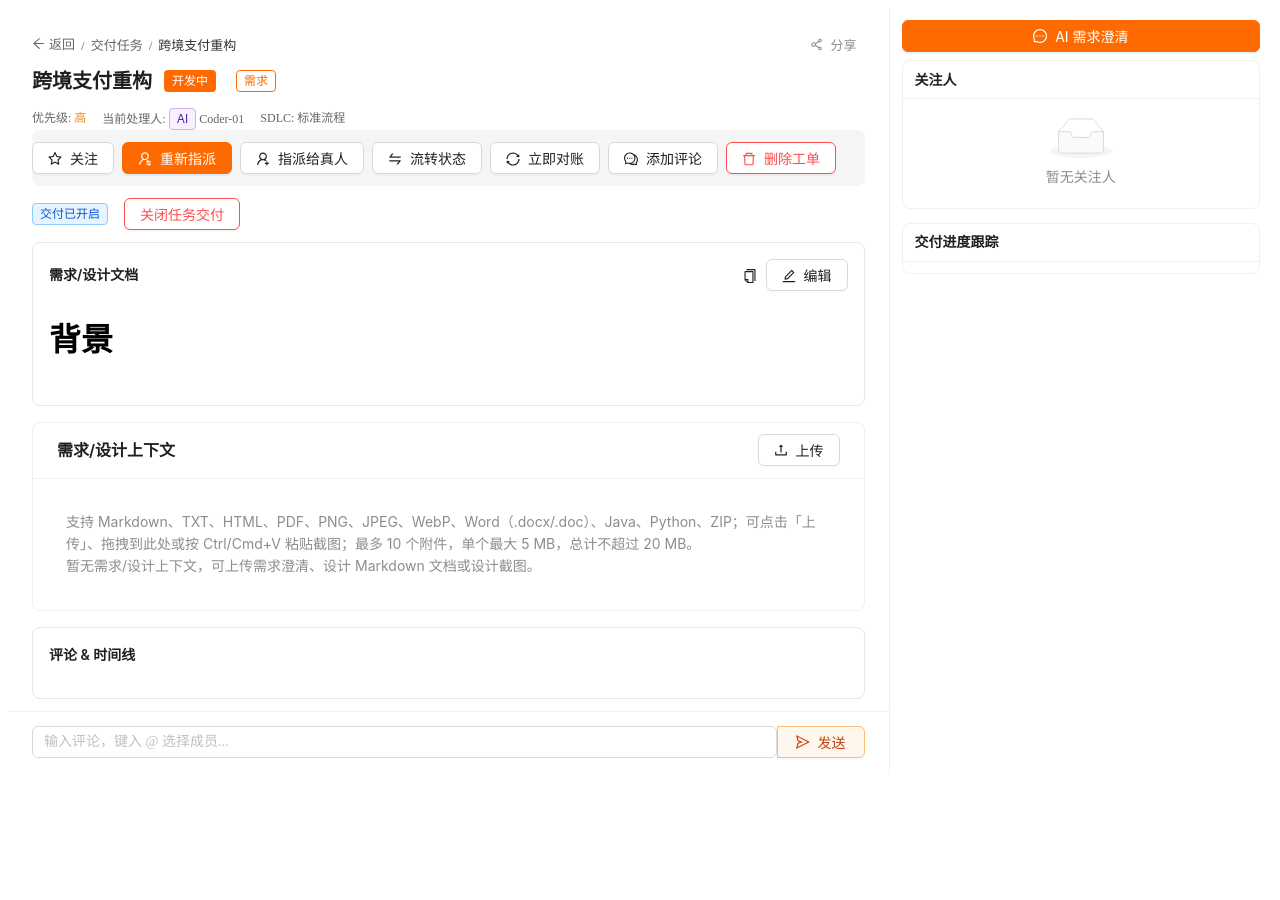
WorkitemDetailPage right panel surface › copies the deployment link of the workitem from the top-right share entry
The image size is (1280, 900).
Expected: the heading "跨境支付重构" is shown, [32,68,152,94]
Click the button with test id "workitem-share-button" at (833, 44), box [802,32,865,56]
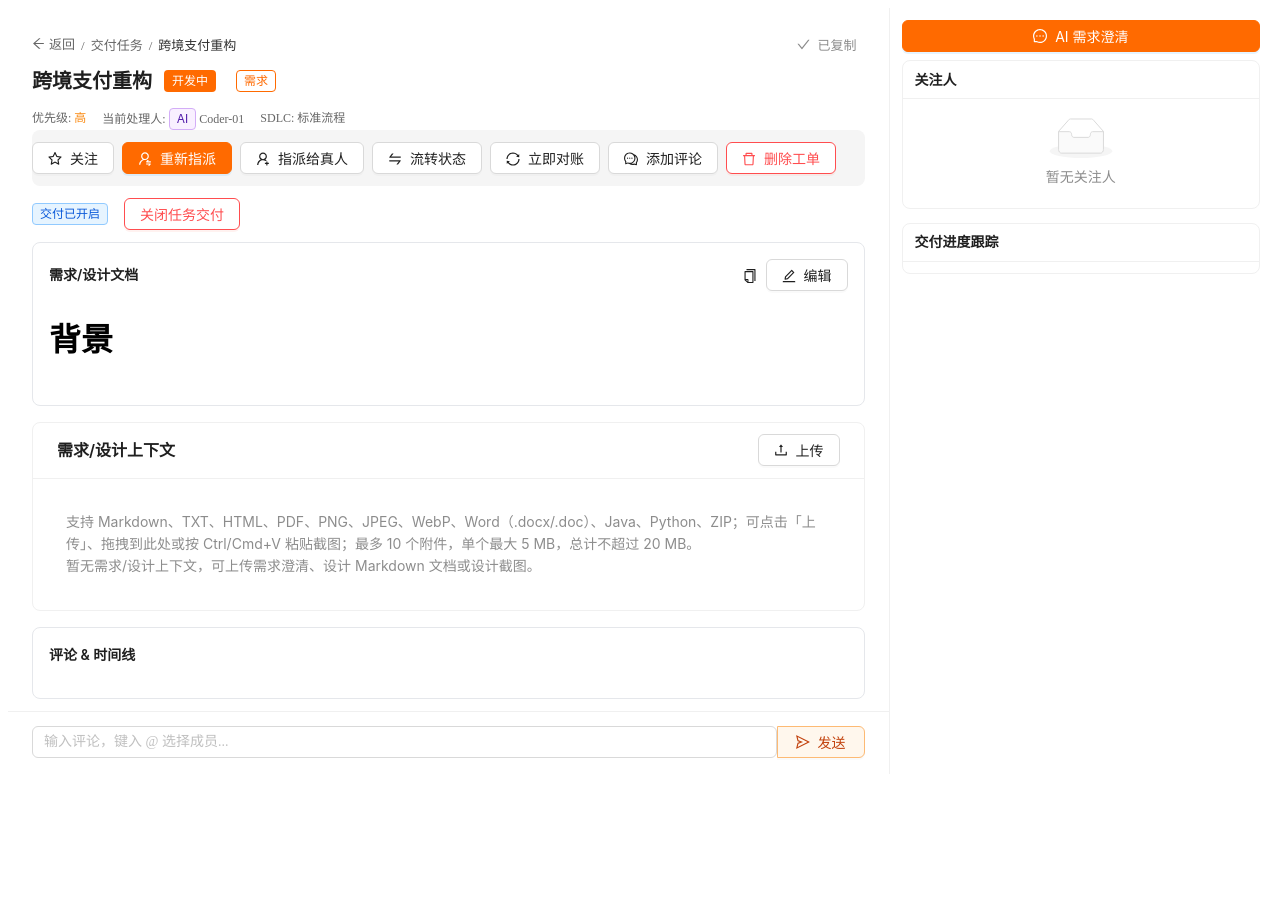
Now the button with test id "workitem-share-button" reads "已复制", box [789,32,865,56]
